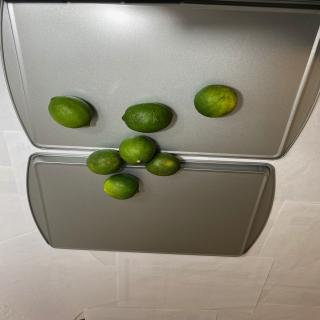Lemon: (121, 102, 172, 133), (193, 84, 238, 118), (48, 95, 93, 129), (118, 135, 156, 165), (103, 173, 140, 200), (86, 148, 123, 174), (145, 152, 181, 176)
